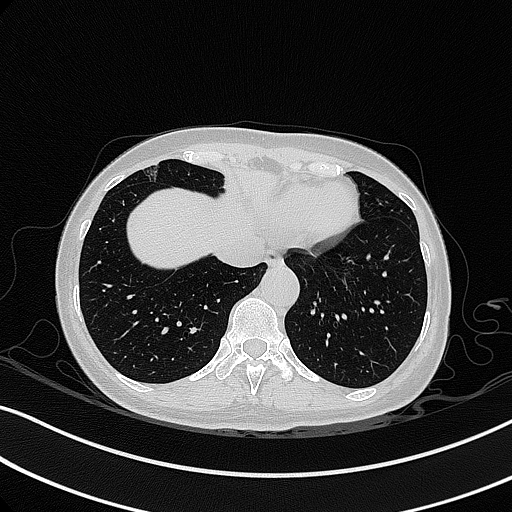nodule: (142, 165, 158, 182)
